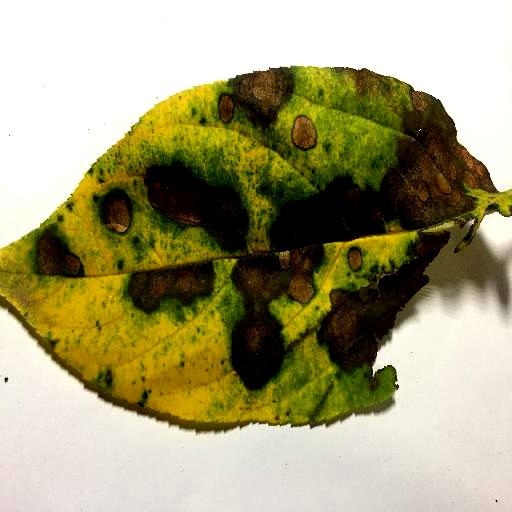Brown_Spot: (331, 236, 431, 360), (389, 120, 481, 213), (231, 253, 278, 387), (152, 179, 243, 248), (114, 270, 212, 305), (348, 74, 425, 105), (241, 77, 278, 125), (35, 239, 90, 271), (288, 247, 308, 304), (105, 197, 131, 234), (299, 117, 318, 150), (345, 243, 359, 271), (221, 97, 230, 123)
